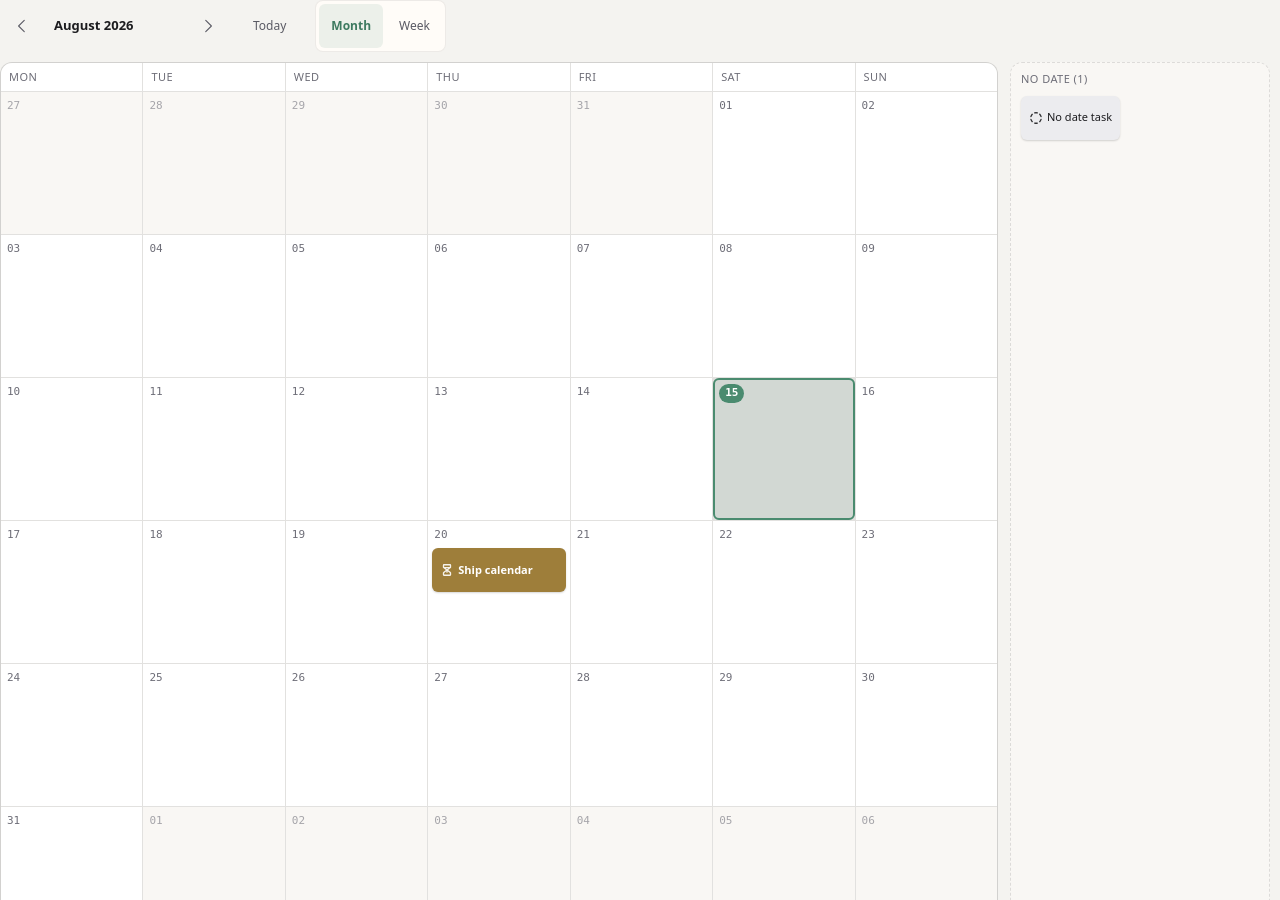
Scenario: DueCalendar › renders 5 rows (35 cells) for September 2026
Step 1. Click the button named "Next month" → click(208, 26), box [186,4,230,48]
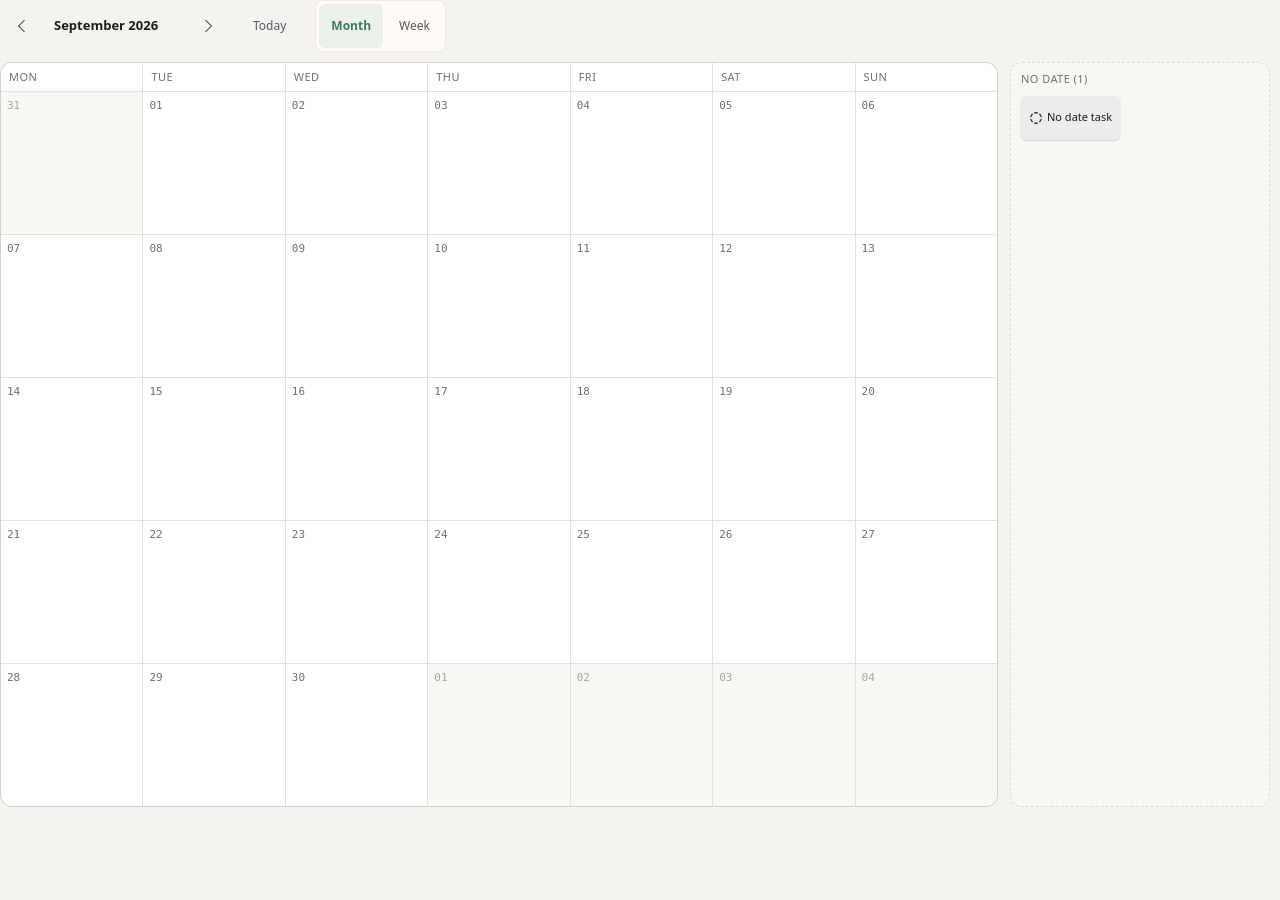
Expected: the button "September 2026" is shown, [50,4,180,48]
Expected: the number of cells with class "due-cal-cell" is 35
